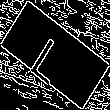L_NE: (31, 25, 79, 85)
